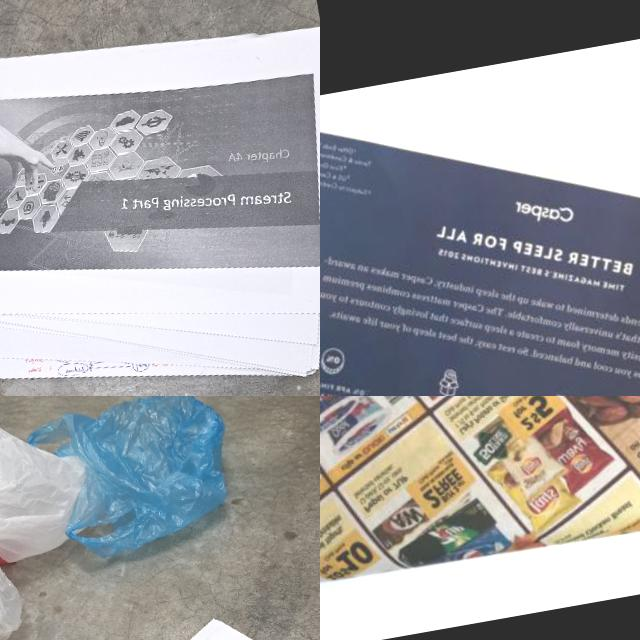papel: (0, 0, 320, 396), (320, 29, 640, 396), (320, 396, 640, 613), (42, 581, 320, 640)
sacola plástica: (18, 396, 244, 568), (0, 396, 102, 580), (0, 521, 31, 640)
